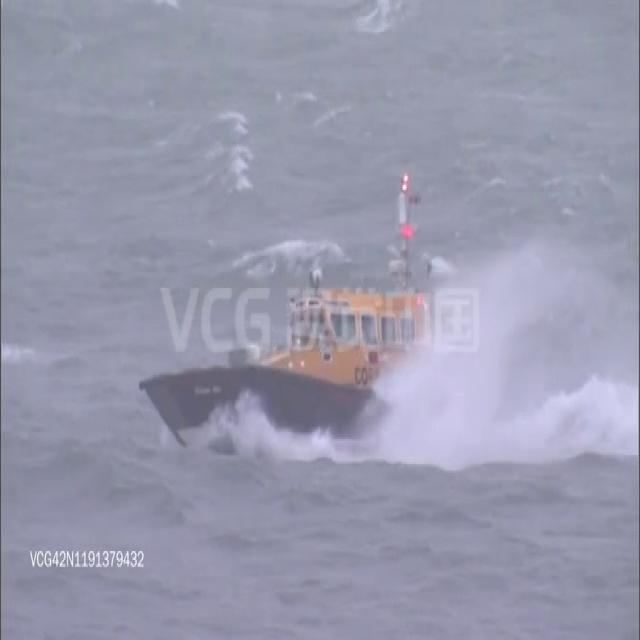houseboat: (137, 207, 491, 463)
